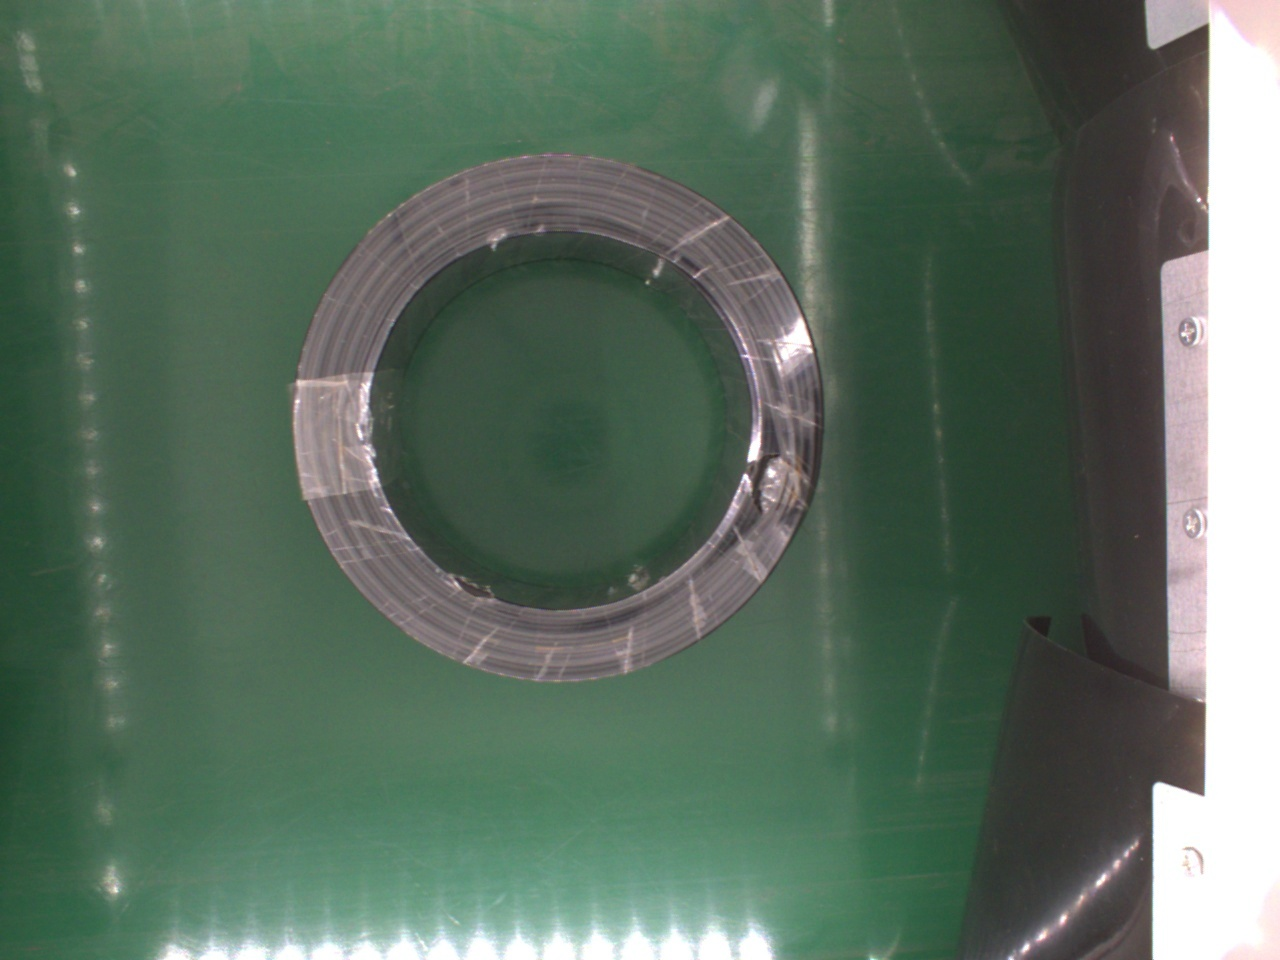black: (285, 152, 826, 684)
